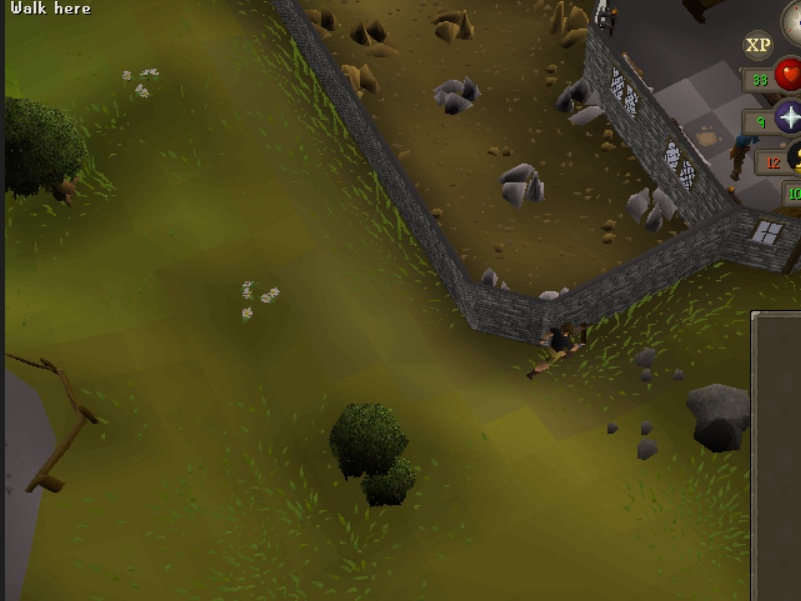clay: (547, 1, 599, 50), (349, 16, 405, 57), (336, 58, 387, 102), (296, 3, 347, 47), (428, 9, 484, 46)
silver: (554, 72, 612, 133), (623, 178, 682, 237), (428, 71, 485, 119), (495, 156, 548, 207)
